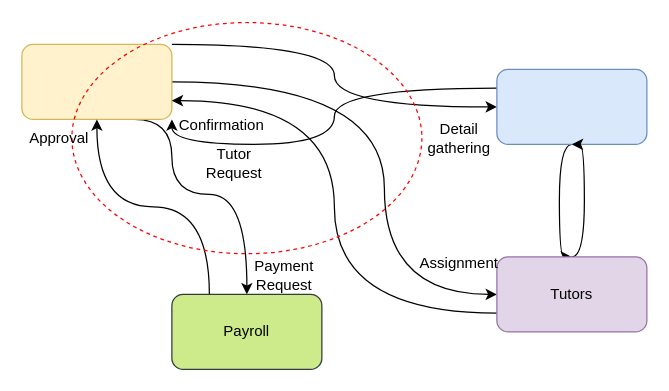
This 669x391 diagram has some shape labels left out. The shapes that lost their labels are listed below. From the top down, each one's centre as x and y in pixels, then its label:
At (96,81): "Julieanne".
At (571,106): "Clients".
